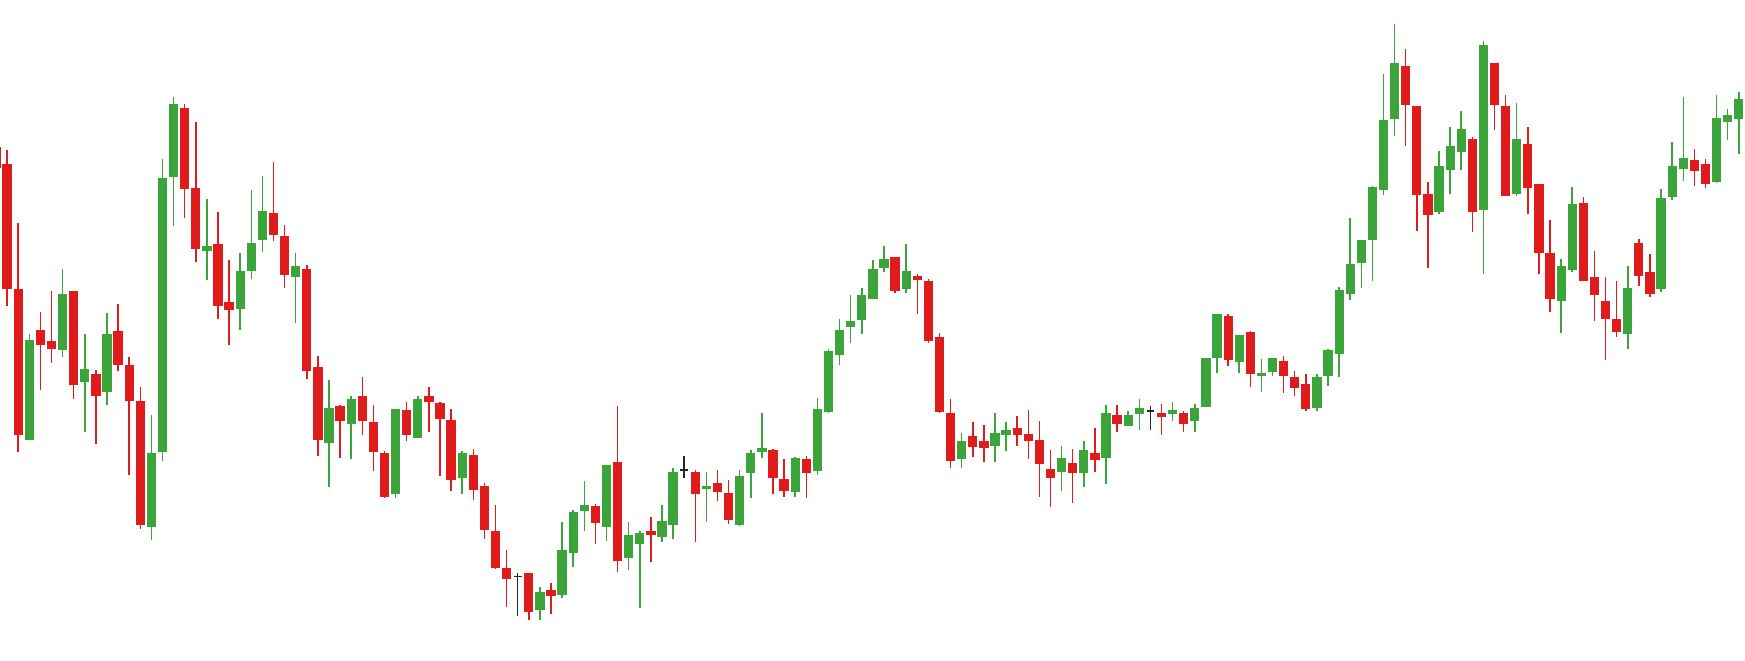buy: (1557, 239, 1634, 362)
sell: (1396, 43, 1500, 157), (200, 161, 278, 300)
